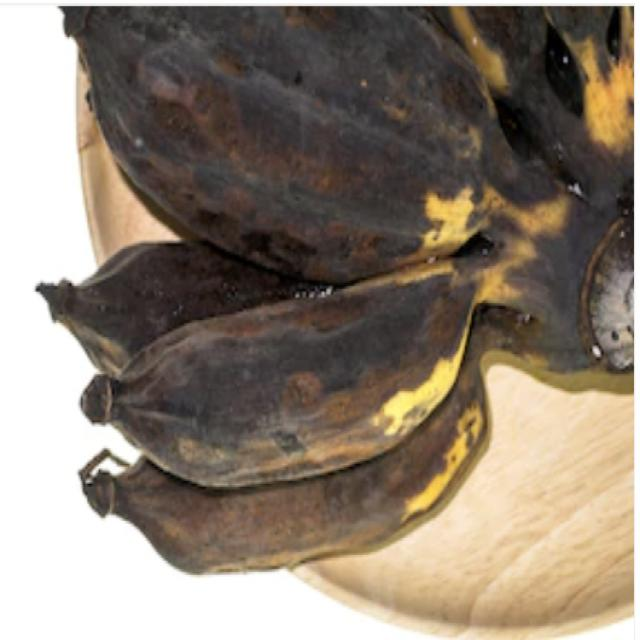rotten-banana: (87, 24, 487, 248), (97, 272, 480, 468), (105, 391, 499, 579)
